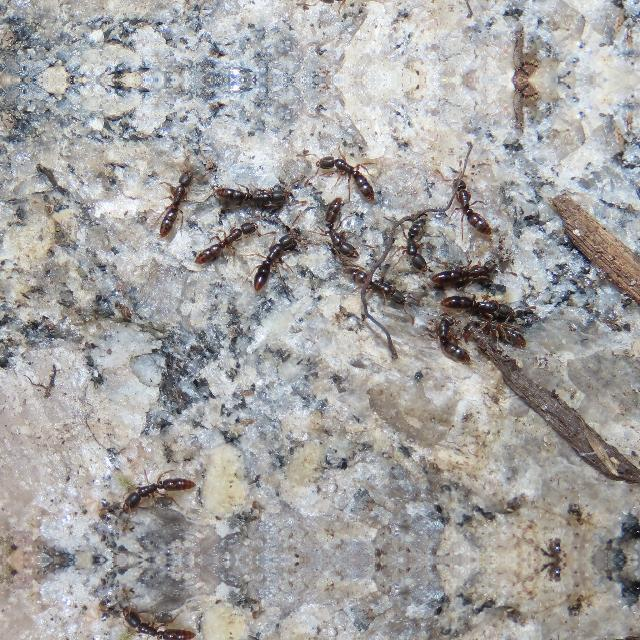Ponera: (232, 222, 321, 298), (438, 150, 508, 242), (183, 207, 264, 273), (310, 143, 392, 204), (103, 465, 195, 519), (336, 258, 414, 316), (209, 167, 309, 211), (308, 183, 367, 255), (388, 198, 436, 280), (428, 242, 504, 292), (151, 160, 199, 238), (103, 600, 195, 640), (424, 304, 481, 366), (453, 314, 531, 348), (443, 286, 519, 316), (310, 0, 392, 16)
